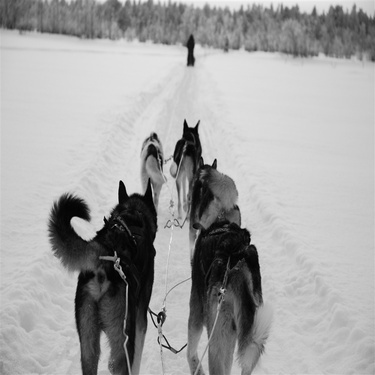dog: (46, 175, 161, 373), (178, 219, 274, 373), (182, 155, 245, 263), (170, 115, 205, 216), (139, 128, 167, 203)
